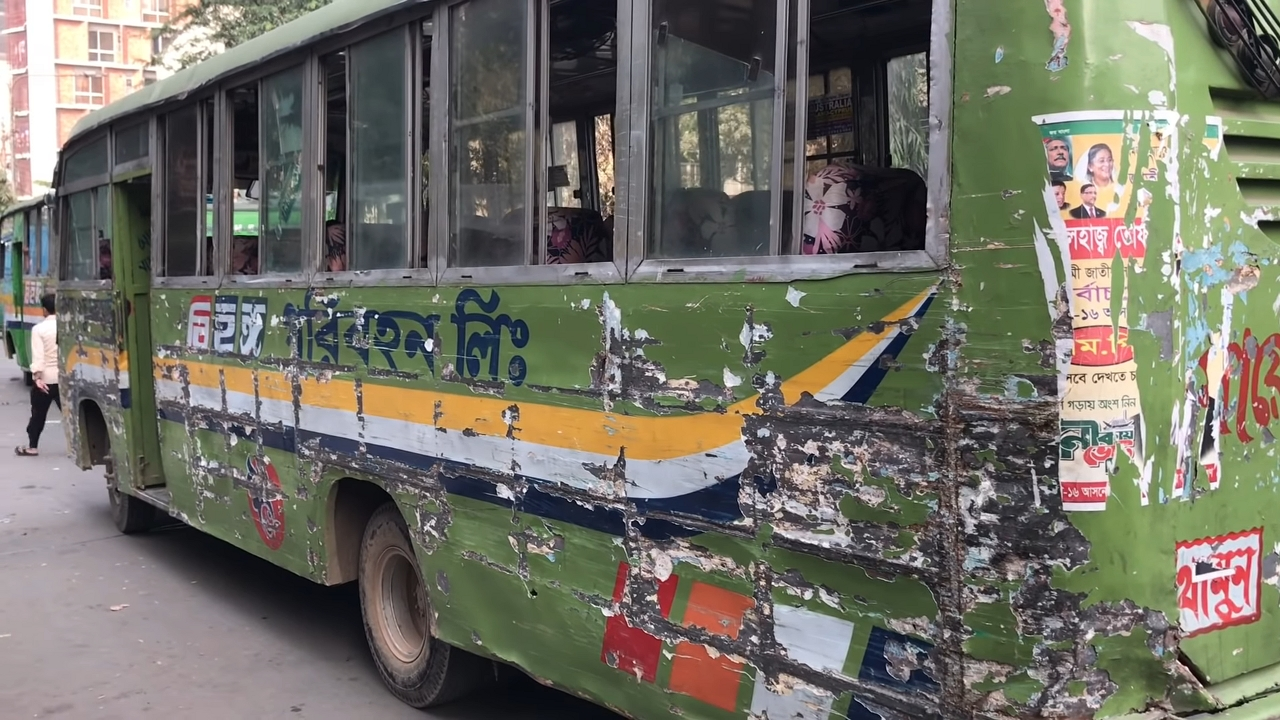bus: (49, 7, 1280, 711), (1, 194, 57, 390)
